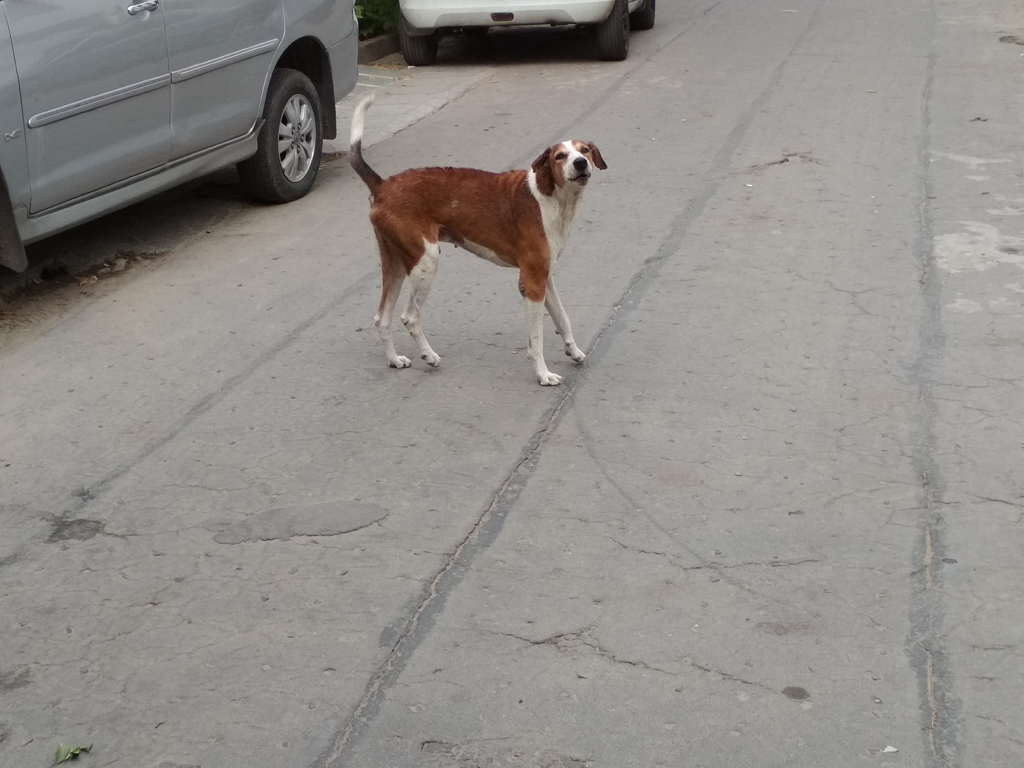dog: (349, 92, 609, 388)
